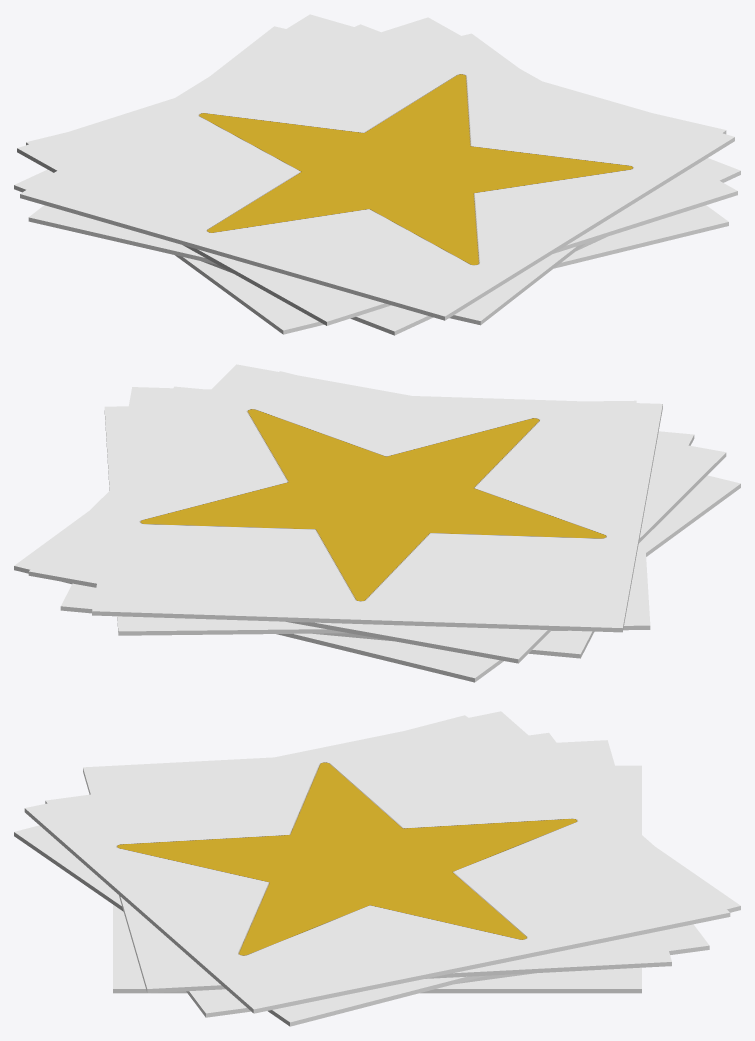
The model's file is KitchenStickerStack.fbx.
3 renders of one model, top to bottom at view 1: azimuth 30°, elevation 25°; view 2: azimuth 150°, elevation 25°; view 3: azimuth 270°, elevation 25°, orthographic. The views are drawn at different scales.
Visible parts, largest first — view 1: KitchenStickerStack_Baked; view 2: KitchenStickerStack_Baked; view 3: KitchenStickerStack_Baked.
Part boxes in pixels (box(x1,y1,x2,y2)): KitchenStickerStack_Baked: box(14, 14, 740, 335); KitchenStickerStack_Baked: box(14, 364, 740, 682); KitchenStickerStack_Baked: box(14, 711, 740, 1026).
Size of the model in its own units: 17.85 by 0.5762 by 17.85.
1 material, 1 textured.
